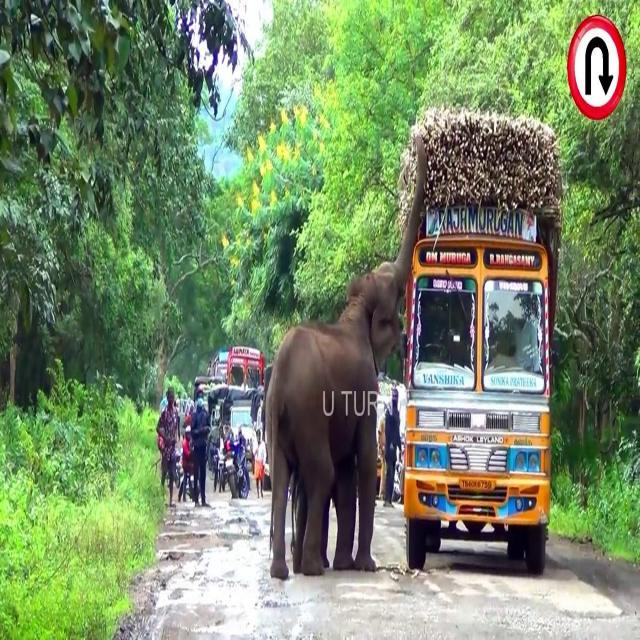Elephant: (265, 132, 429, 582)
